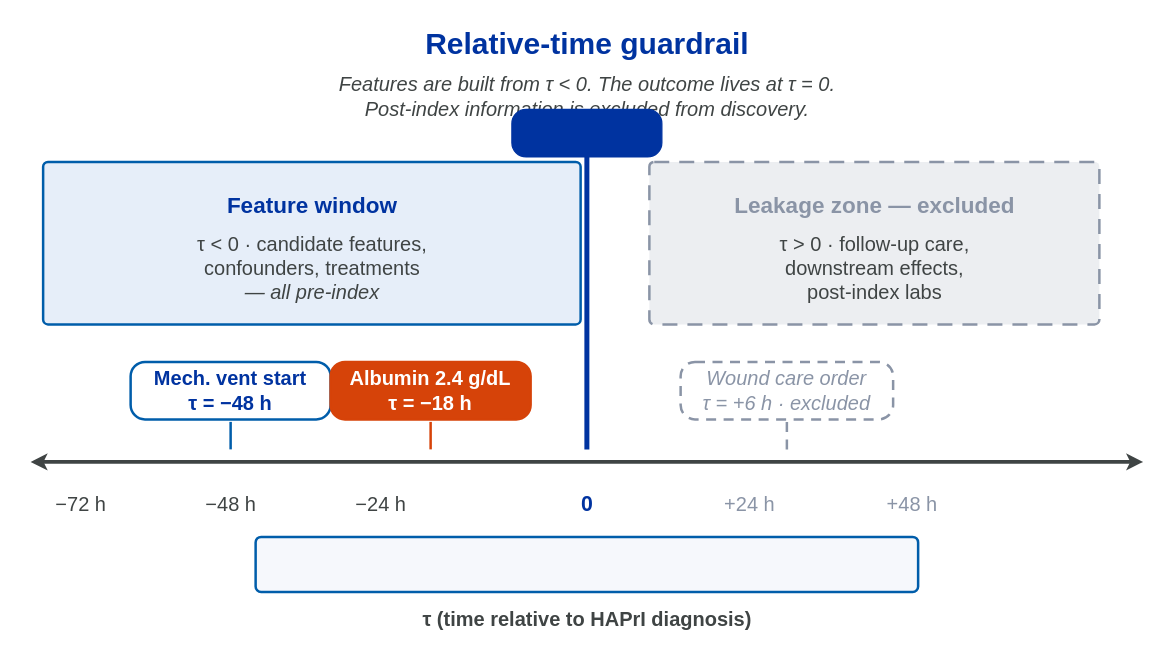
This 1175x653 diagram has some shape labels left out. The shapes that lost their labels are listed below. From the top down, each one's centre as x and y in pixels, then its label:
At (x=586, y=132): "τ = 0 HAPrI diagnosis".
At (x=586, y=563): "X = f({events at τ < 0}), Y = 1(HAPrI at τ = 0)".
